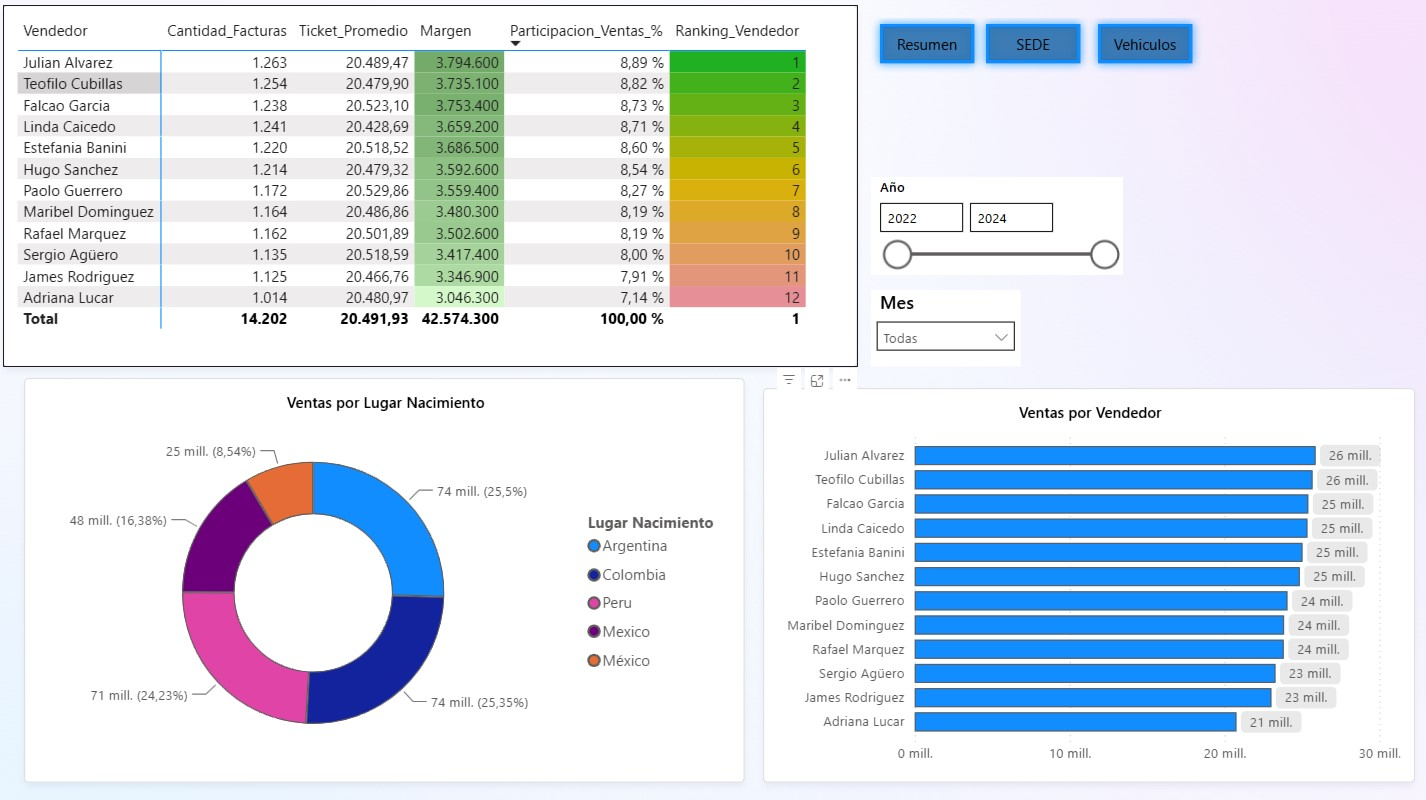

The dashboard page shown, as its layout file describes it:
{"tool":"powerbi","page":{"name":"Vendedores","canvas":[1280,720],"ordinal":1},"visuals":[{"type":"clusteredBarChart","title":"Ventas por Vendedor","fields":{"Category":["Vendedores.Vendedor"],"Y":["MEDIDAS.Total_Ventas"]},"box":[686.9,349.4,580.3,351.3],"z":0},{"type":"pivotTable","fields":{"Rows":["Vendedores.Vendedor"],"Values":["MEDIDAS.Cantidad_Facturas","MEDIDAS.Ticket_Promedio","MEDIDAS.Margen","MEDIDAS.Participacion_Ventas_%","MEDIDAS.Ranking_Vendedor"]},"box":[10.9,8.9,759.9,321.7],"z":1000},{"type":"donutChart","title":"Ventas por Lugar Nacimiento","fields":{"Category":["Vendedores.Lugar_Nacimiento"],"Y":["MEDIDAS.Total_Ventas"]},"box":[29.6,340.5,641.5,360.2],"z":2000},{"type":"slicer","fields":{"Values":["Calendario.InicioMes.Variación.Jerarquía de fechas.Mes"]},"box":[782.6,262.5,133.2,68.1],"z":3000},{"type":"slicer","fields":{"Values":["Calendario.Fecha.Variación.Jerarquía de fechas.Año"]},"box":[782.6,161.9,224,86.8],"z":4000},{"type":"actionButton","title":"Vendedores","box":[782.7,17.9,99.8,50.9],"z":5000},{"type":"actionButton","title":"Vendedores","box":[876.9,17.9,99.8,50.9],"z":6000},{"type":"actionButton","title":"Vendedores","box":[976.7,17.9,99.8,50.9],"z":7000}]}

Visuals, with their boxes in screenshot pixels (x1, y1, x2, y2), scaled from the page's 1280x720 canvas onto the 1426x800 screenshot:
"Ventas por Vendedor" clusteredBarChart: bbox(765, 388, 1412, 779)
pivotTable - Vendedores.Vendedor x MEDIDAS.Cantidad_Facturas: bbox(12, 10, 859, 367)
"Ventas por Lugar Nacimiento" donutChart: bbox(33, 378, 748, 779)
slicer - Calendario.InicioMes.Variación.Jerarquía de fechas.Mes: bbox(872, 292, 1020, 367)
slicer - Calendario.Fecha.Variación.Jerarquía de fechas.Año: bbox(872, 180, 1121, 276)
"Vendedores" actionButton: bbox(872, 20, 983, 76)
"Vendedores" actionButton: bbox(977, 20, 1088, 76)
"Vendedores" actionButton: bbox(1088, 20, 1199, 76)
